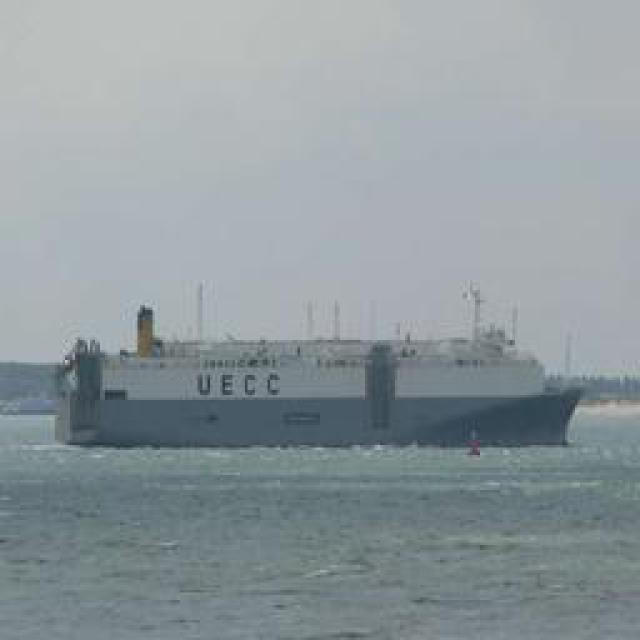Ship: (55, 326, 578, 449)
